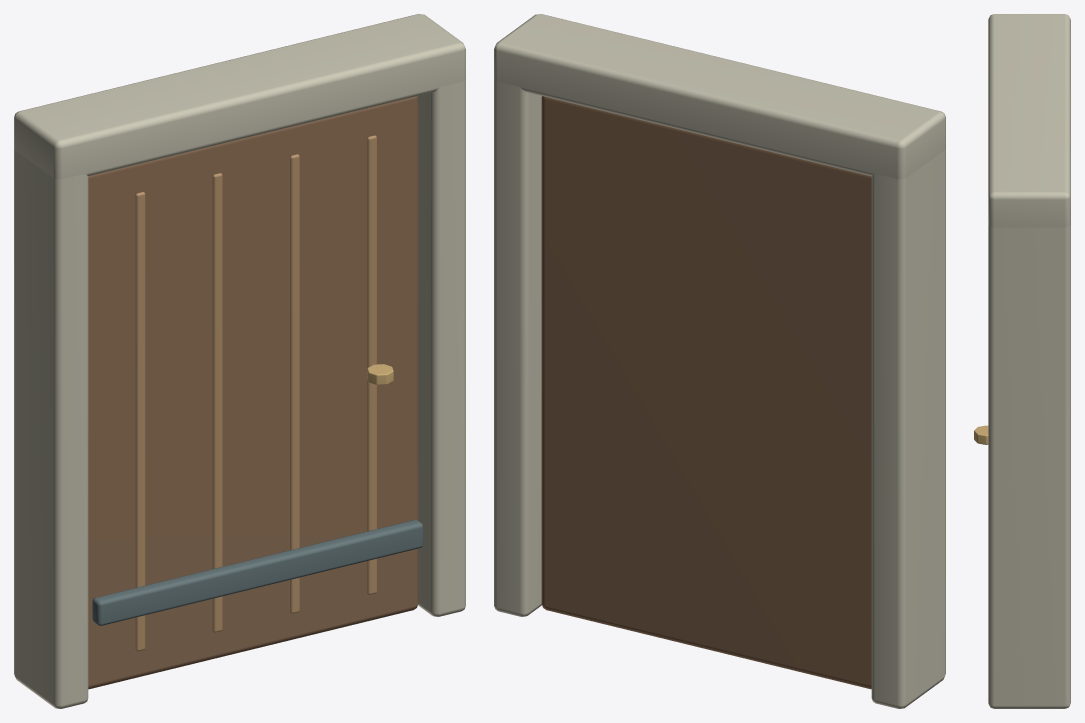
File: SM_Door_Wood_2x3.fbx
3 renders of one model, left to right at view 1: azimuth 30°, elevation 25°; view 2: azimuth 150°, elevation 25°; view 3: azimuth 270°, elevation 25°, orthographic. The views are drawn at different scales.
Parts seen in each view (by area): view 1: SM_Door_Wood_2x3; view 2: SM_Door_Wood_2x3; view 3: SM_Door_Wood_2x3.
Boxes of the visible parts, x1=… form: SM_Door_Wood_2x3: x1=14, y1=14, x2=465, y2=708; SM_Door_Wood_2x3: x1=494, y1=14, x2=945, y2=708; SM_Door_Wood_2x3: x1=974, y1=14, x2=1070, y2=708.
Size of the model in its own units: 2.4 by 3.17 by 0.5387.
